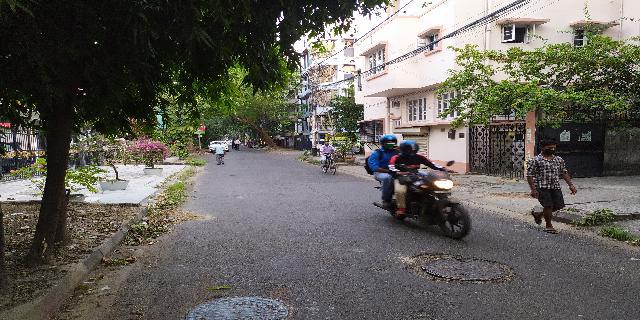Cycle: (312, 138, 340, 177)
Motorbike: (366, 136, 478, 240)
